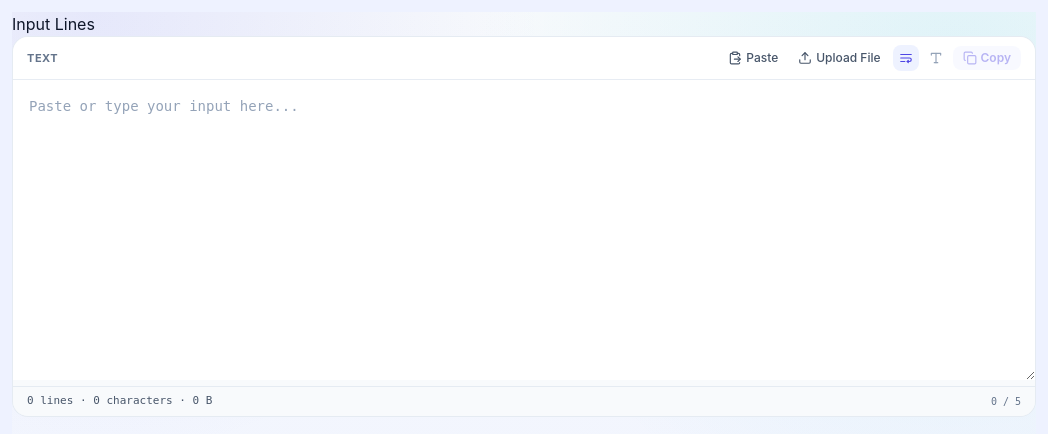
Test: CodeEditor › limits oversized input and explains the boundary
The image size is (1048, 434).
Type "abcdef" into the text box labelled "Input Lines" at (524, 230), box [13, 80, 1035, 380]
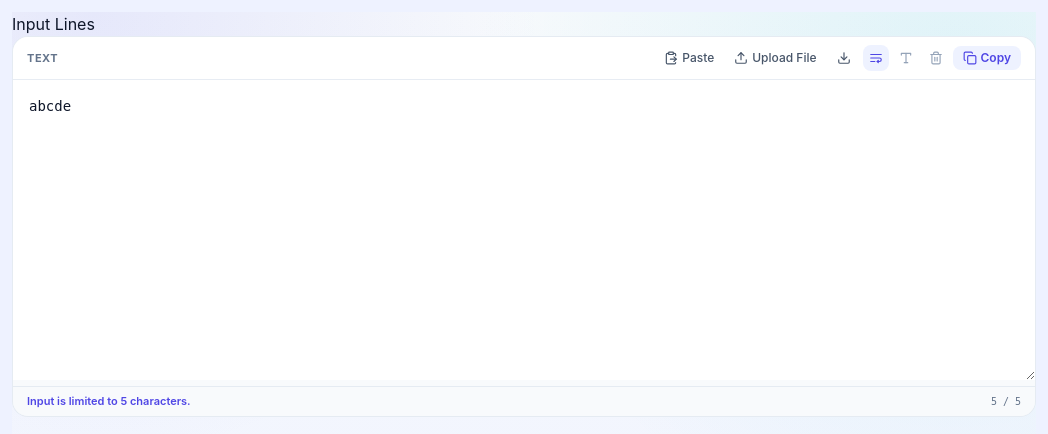
Now the text box labelled "Input Lines" holds "abcde"
Now the message shows "Input is limited to 5 characters.", box [27, 394, 191, 408]
